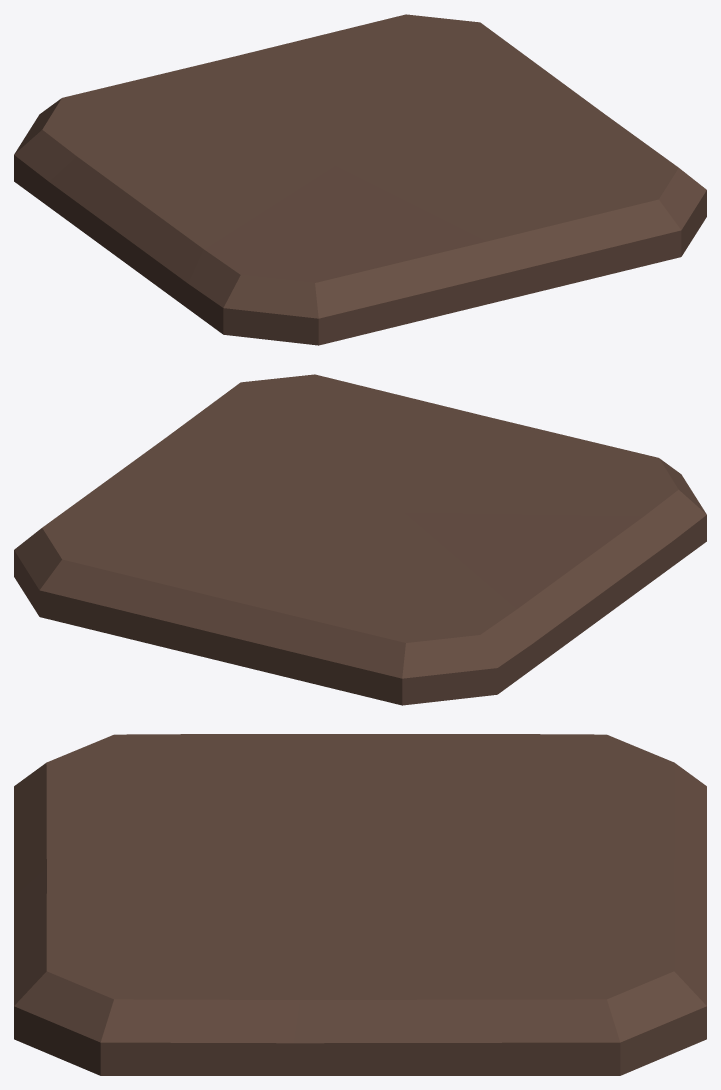
File: Crop_0.fbx
3 views of the same model, one above another, from view 1: azimuth 30°, elevation 25°; view 2: azimuth 150°, elevation 25°; view 3: azimuth 270°, elevation 25° (orthographic). The views are drawn at different scales.
Visible parts, largest first — view 1: Crop_0; view 2: Crop_0; view 3: Crop_0.
Boxes of the visible parts, box(x1,y1,x2,y2) form: Crop_0: box(14, 14, 706, 345); Crop_0: box(14, 374, 706, 705); Crop_0: box(14, 734, 706, 1075).
Bounding box in the file's own units: 1 × 0.1 × 1.
